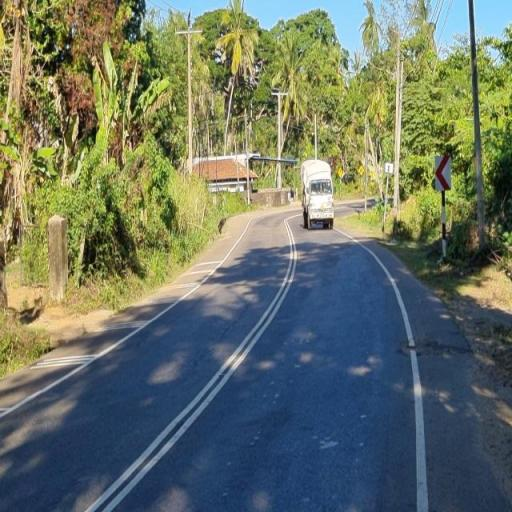double_white_line: (81, 217, 302, 511)
